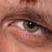eye: (24, 22, 38, 32)
